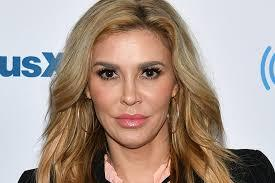normalEye: (92, 57, 166, 84)
normalMouth: (111, 108, 155, 130)
